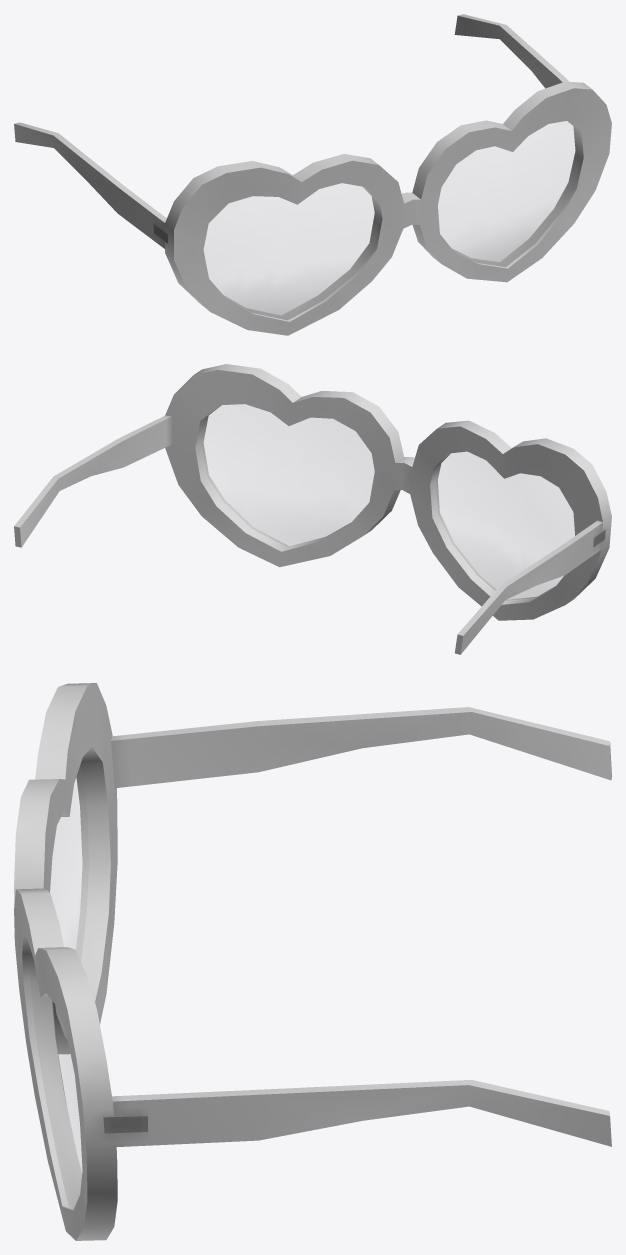
File: p0_eyw1006_00_eyw00.gltf
3 renders of one model, top to bottom at view 1: azimuth 30°, elevation 25°; view 2: azimuth 150°, elevation 25°; view 3: azimuth 270°, elevation 25°, orthographic. The views are drawn at different scales.
Parts seen in each view (by area): view 1: eyw00_frame_mesh_shape:eyewear, eyw00_lens_mesh_shape:eyewear, eyw00_temple_mesh_shape:eyewear; view 2: eyw00_frame_mesh_shape:eyewear, eyw00_lens_mesh_shape:eyewear, eyw00_temple_mesh_shape:eyewear; view 3: eyw00_temple_mesh_shape:eyewear, eyw00_frame_mesh_shape:eyewear, eyw00_lens_mesh_shape:eyewear.
Boxes of the visible parts, box(x1,y1,x2,y2) form: eyw00_frame_mesh_shape:eyewear: box(165, 81, 611, 335); eyw00_lens_mesh_shape:eyewear: box(213, 187, 568, 319); eyw00_temple_mesh_shape:eyewear: box(14, 14, 568, 248); eyw00_frame_mesh_shape:eyewear: box(165, 364, 611, 620); eyw00_lens_mesh_shape:eyewear: box(213, 472, 562, 600); eyw00_temple_mesh_shape:eyewear: box(14, 415, 605, 654); eyw00_temple_mesh_shape:eyewear: box(103, 707, 611, 1146); eyw00_frame_mesh_shape:eyewear: box(14, 683, 117, 1240); eyw00_lens_mesh_shape:eyewear: box(36, 881, 87, 1207).
Size of what is drawn, in the model's own units: 0.217 by 0.0828 by 0.1451.
1 material, 1 textured.
